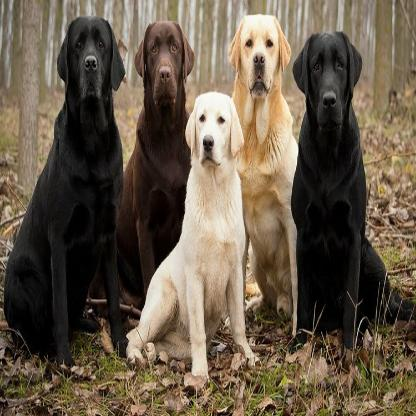Labarador Retriever: (6, 11, 124, 352), (118, 90, 248, 369), (291, 28, 398, 344), (226, 13, 298, 348), (124, 18, 196, 307)
